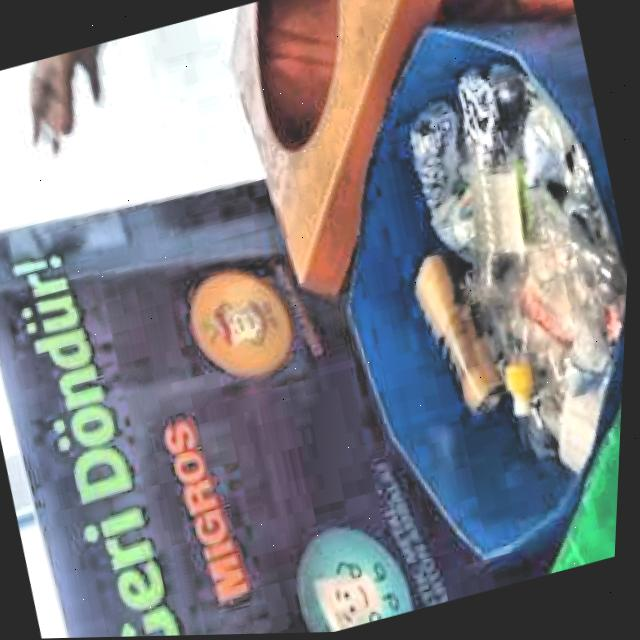metal: (420, 251, 511, 411)
plastic: (410, 59, 630, 469)
